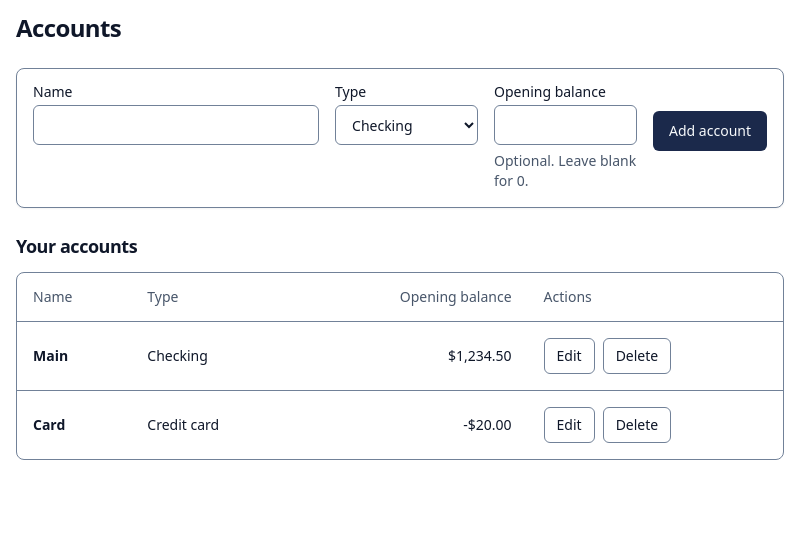
it: AccountsPage edit and delete › T-024 Edit prefills the decimal balance; saving PUTs minor units and the row updates
Expected: the table is shown, [17,273,783,458]
Click the button with aria-label "Edit Main" at [569, 356], box [544,338,595,374]
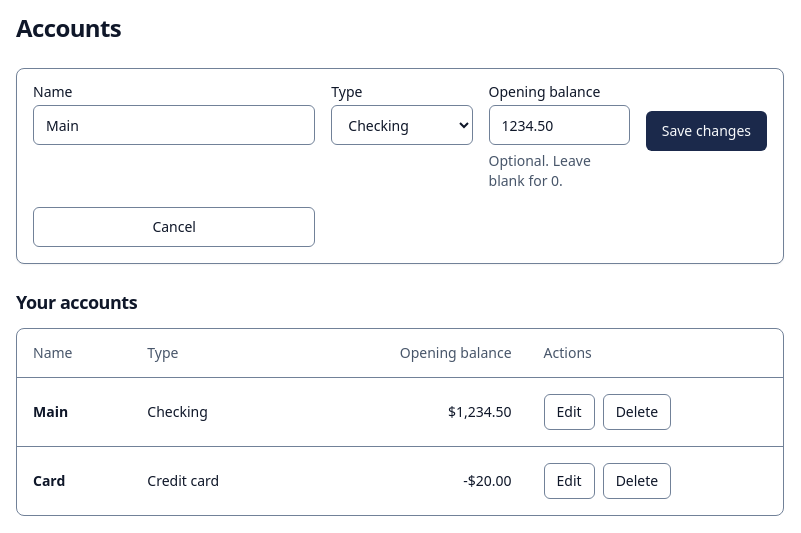
Result: the field labelled "Name" holds "Main"
Result: the dropdown labelled "Type" shows "Checking" at [331,105,473,145]
Result: the field labelled "Opening balance" holds "1234.50" at [488,105,630,145]
Replace the text in the field labelled "Name" with "Main account" at [174, 125], box [33,105,315,145]
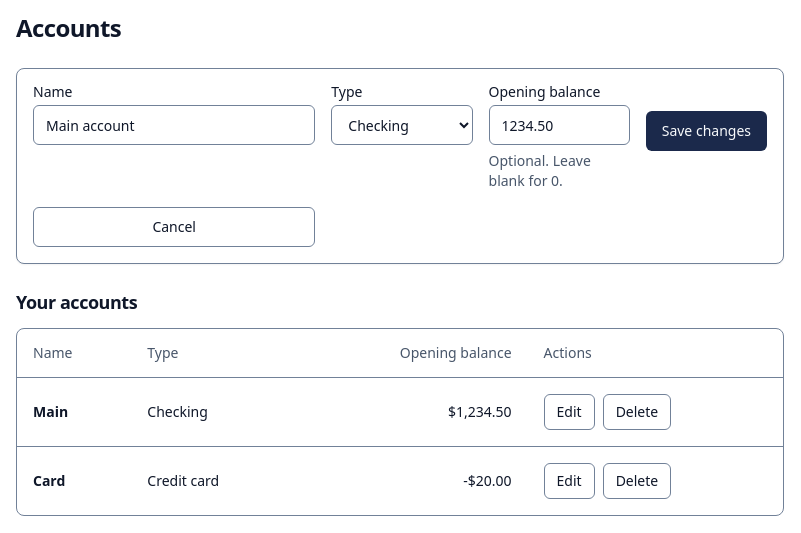
Replace the text in the field labelled "Opening balance" with "99.9" at [559, 125], box [488,105,630,145]
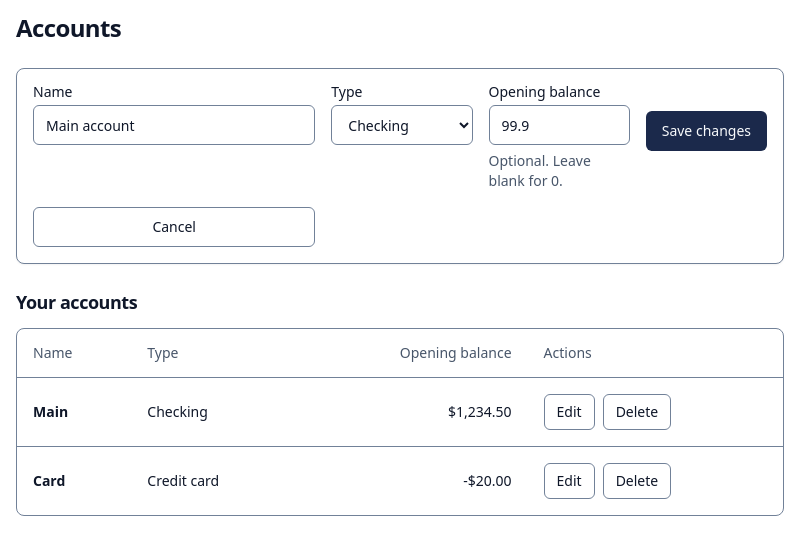
Click the button "Save changes" at [706, 131], box [646,111,767,151]
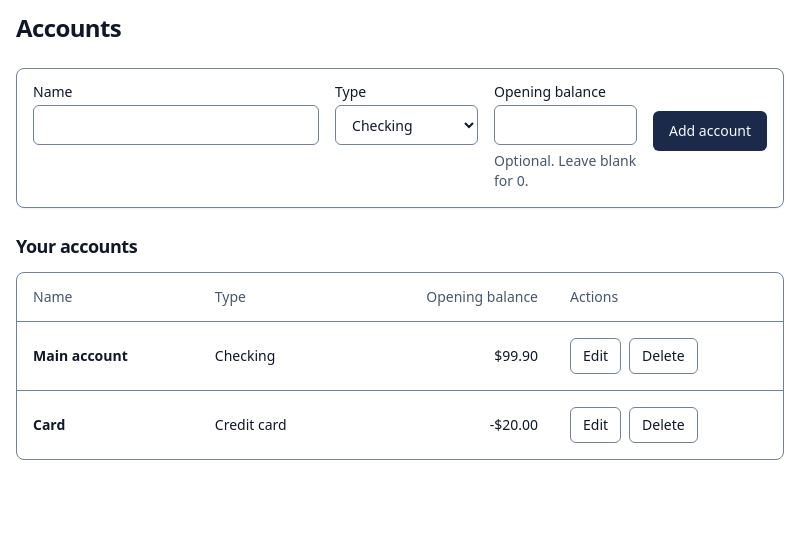
Result: the table shows "Main account" at [33,346,128,364]
Result: the form named "Add an account" is shown at [16,68,784,208]
